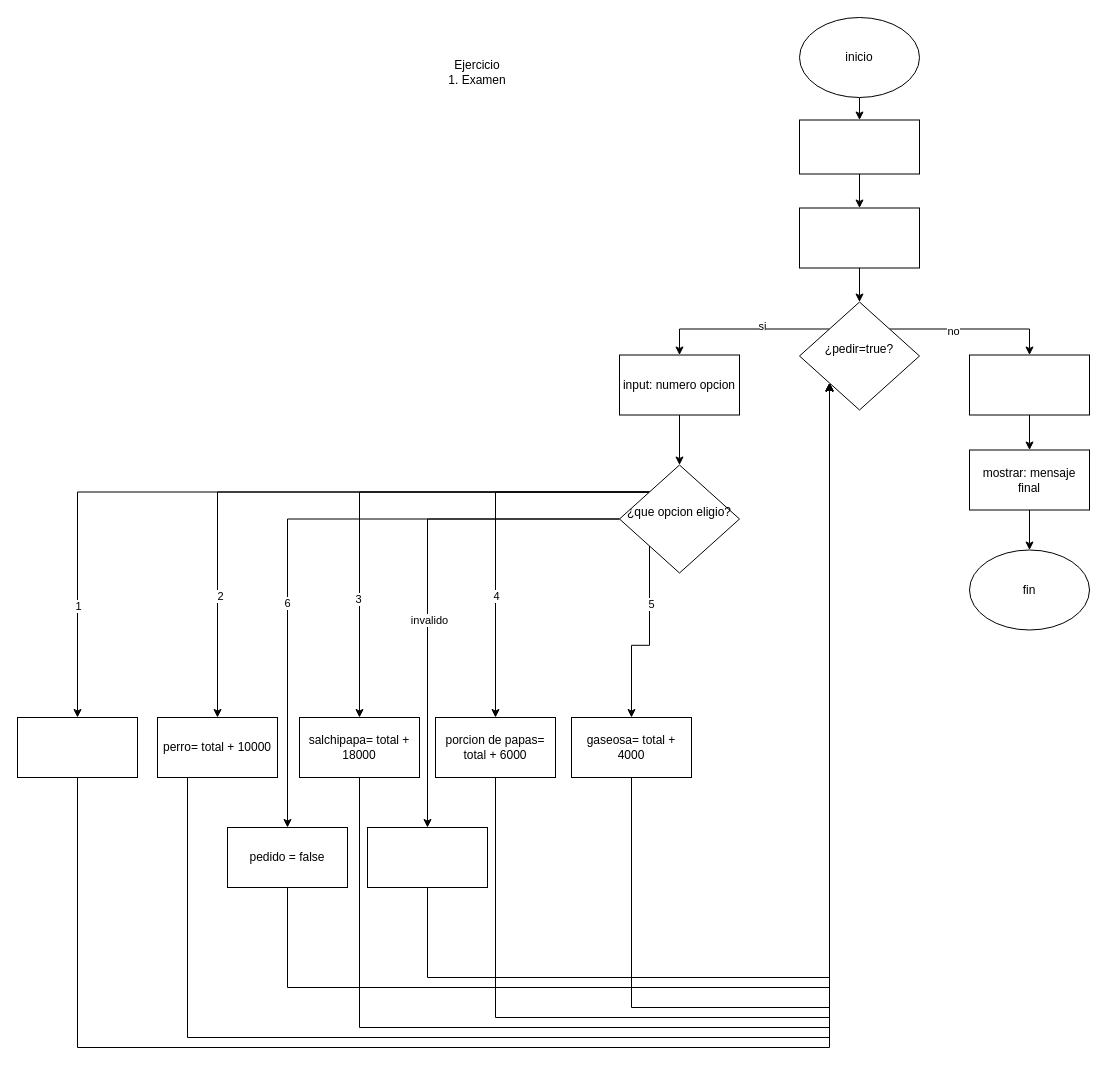
The diagram is 1107 pixels wide and 1073 high, and some of its shapes have lost their labels. The shapes that lost their labels are listed below. From the top down, each one's centre as x and y in pixels, then its label:
At (859,146): "total=0 pedir=true".
At (859,237): "menu comidfa".
At (1029,384): "mostrar: total a pagar".
At (77,747): "hamburguesa= total + 15000".
At (427,857): "mostrar: opcion invalida".
